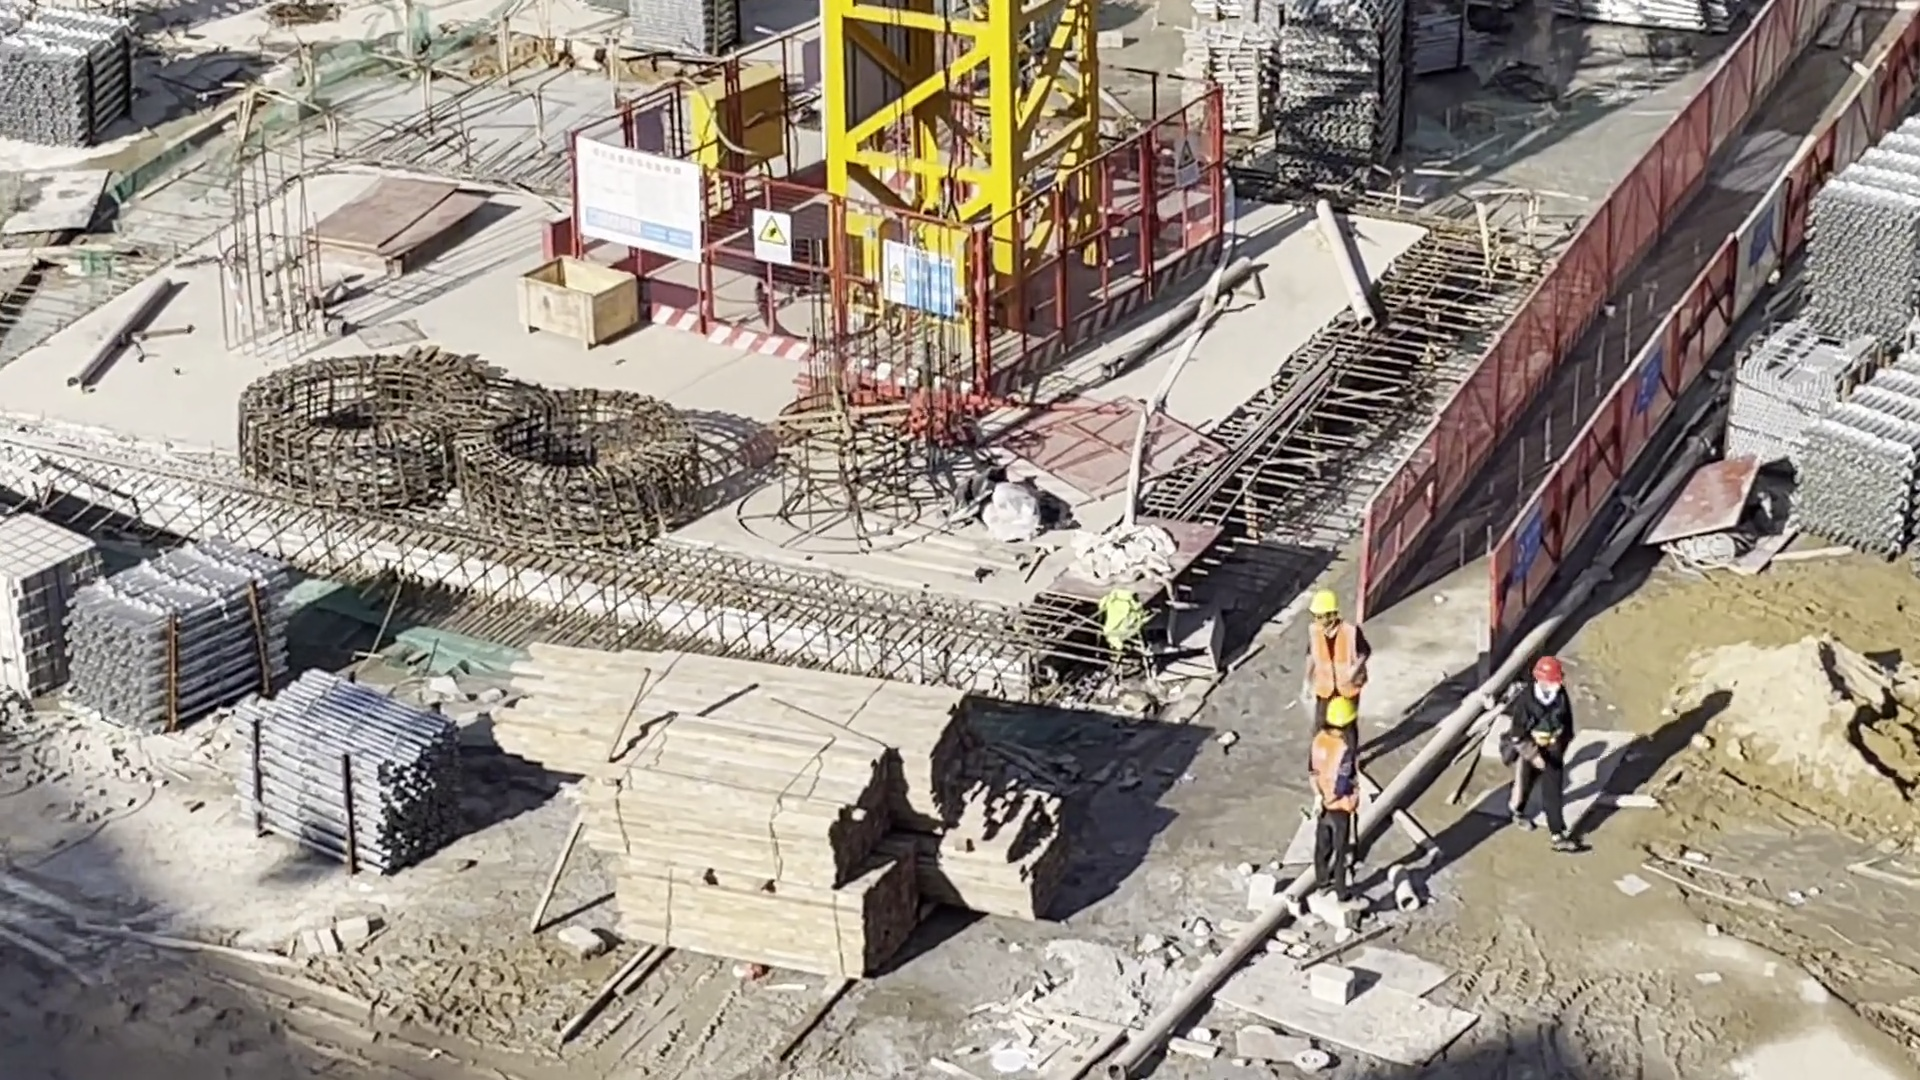board: (314, 183, 458, 274)
brick: (1, 522, 97, 679)
ebox: (696, 68, 782, 179)
fence: (1373, 10, 1920, 605)
helmet: (1326, 696, 1358, 727), (1531, 659, 1566, 682), (1309, 590, 1339, 616)
person: (1506, 660, 1579, 850), (1302, 591, 1366, 764), (1311, 696, 1363, 900)
scaffold: (244, 681, 462, 873), (75, 547, 283, 729), (1798, 357, 1919, 554), (1812, 120, 1920, 334), (1282, 1, 1403, 176), (1, 1, 132, 141), (1179, 11, 1279, 138), (632, 1, 742, 58)
slogan: (882, 241, 958, 318), (1513, 506, 1540, 585), (1638, 333, 1665, 408), (756, 212, 790, 264), (1175, 134, 1201, 184)
vest: (1304, 733, 1358, 808), (1306, 627, 1356, 700)
wood: (611, 724, 919, 979), (528, 662, 969, 833)
